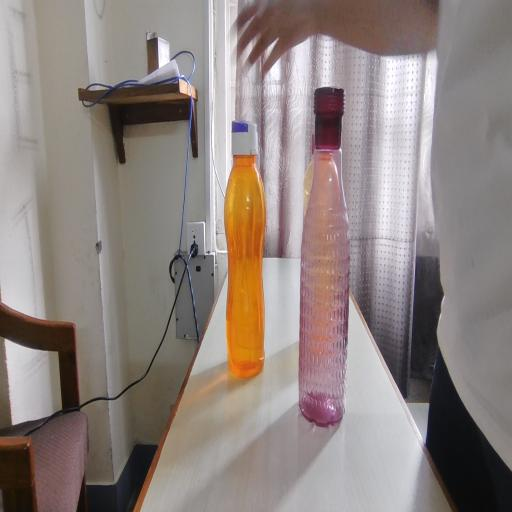Bottle: (302, 73, 365, 436), (226, 111, 283, 383)
